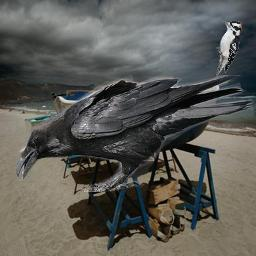Crow: (16, 75, 254, 192)
Woodpecker: (216, 18, 244, 78)
